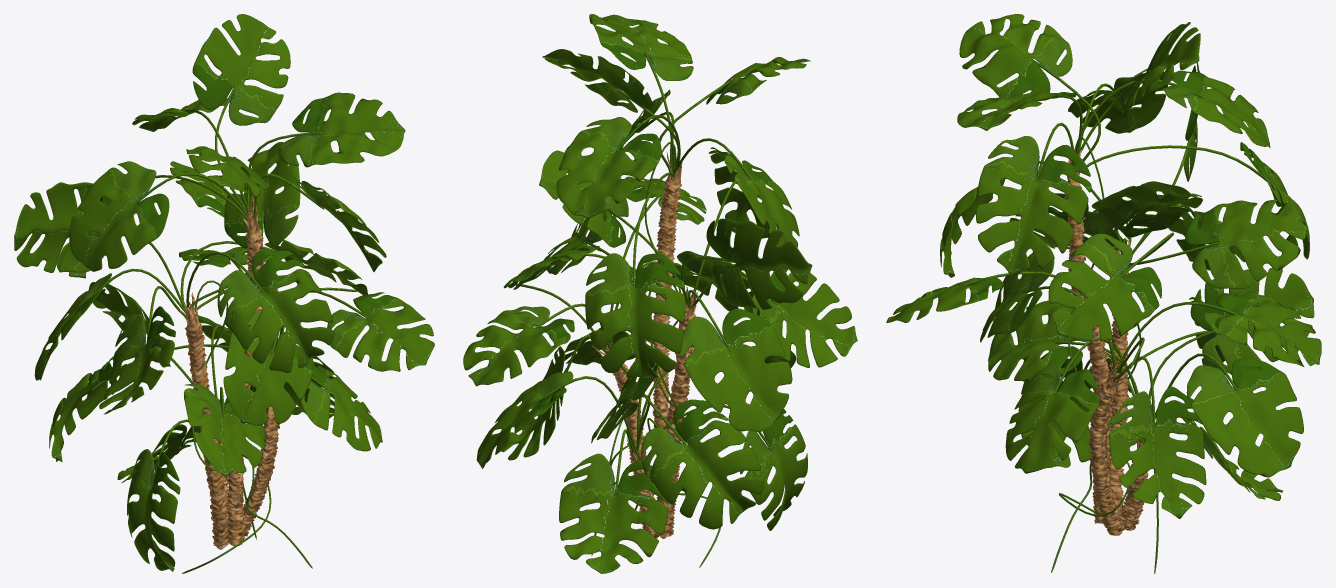
The model's file is tropical.glb.
3 renders of one model, left to right at view 1: azimuth 30°, elevation 25°; view 2: azimuth 150°, elevation 25°; view 3: azimuth 270°, elevation 25°, orthographic. The views are drawn at different scales.
Parts seen in each view (by area): view 1: plant.012; view 2: plant.012; view 3: plant.012.
Part boxes in pixels (x1,y1,x2,y2): plant.012: (14,14,434,573); plant.012: (463,14,857,573); plant.012: (886,14,1321,573).
Size of the model in its own units: 1.84 by 2.82 by 2.05.
Materials: 2 (2 with a texture image).
